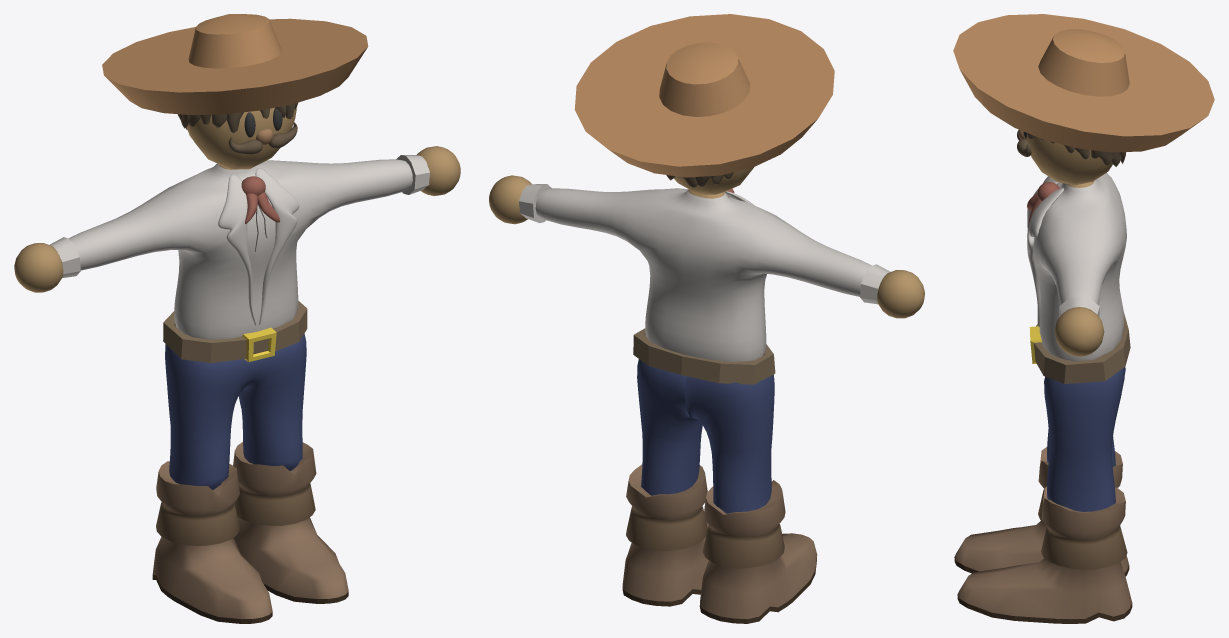
The model's file is NPC 1.fbx.
The picture shows the model from 3 angles, left to right: view 1: azimuth 30°, elevation 25°; view 2: azimuth 150°, elevation 25°; view 3: azimuth 270°, elevation 25°; orthographic projection. The views are drawn at different scales.
Visible parts, largest first — view 1: polySurface125, pCylinder2; view 2: polySurface125, pCylinder2; view 3: polySurface125, pCylinder2.
Boxes of the visible parts, box(x1,y1,x2,y2) form: polySurface125: box(14, 102, 460, 623); pCylinder2: box(102, 14, 368, 115); polySurface125: box(489, 167, 924, 623); pCylinder2: box(574, 14, 834, 177); polySurface125: box(954, 129, 1132, 623); pCylinder2: box(953, 14, 1214, 152).
Bounding box in the file's own units: 12.88 × 15.53 × 6.69.
